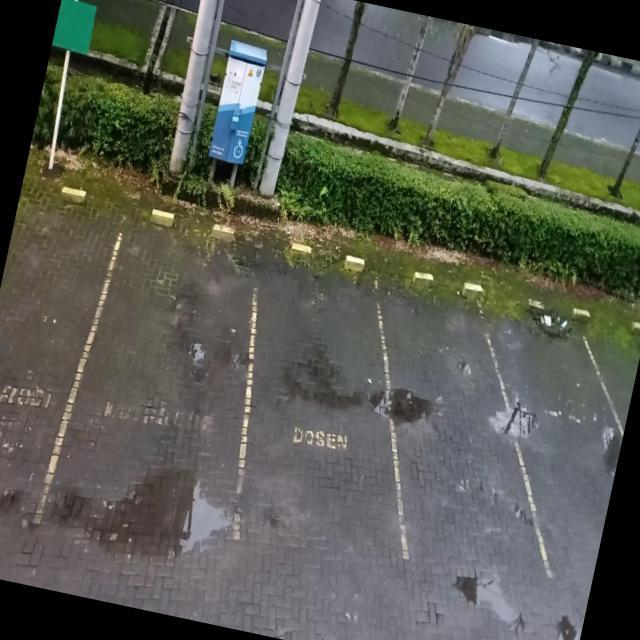empty: (42, 193, 283, 562), (210, 236, 418, 566), (352, 264, 536, 583), (476, 296, 640, 583)
